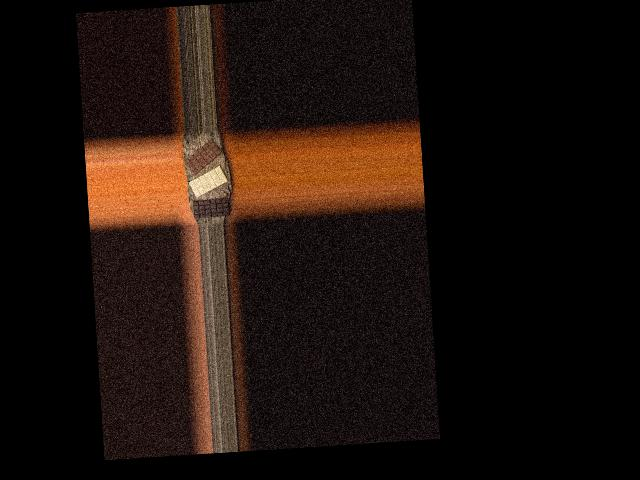chocolate: (192, 198, 230, 219)
